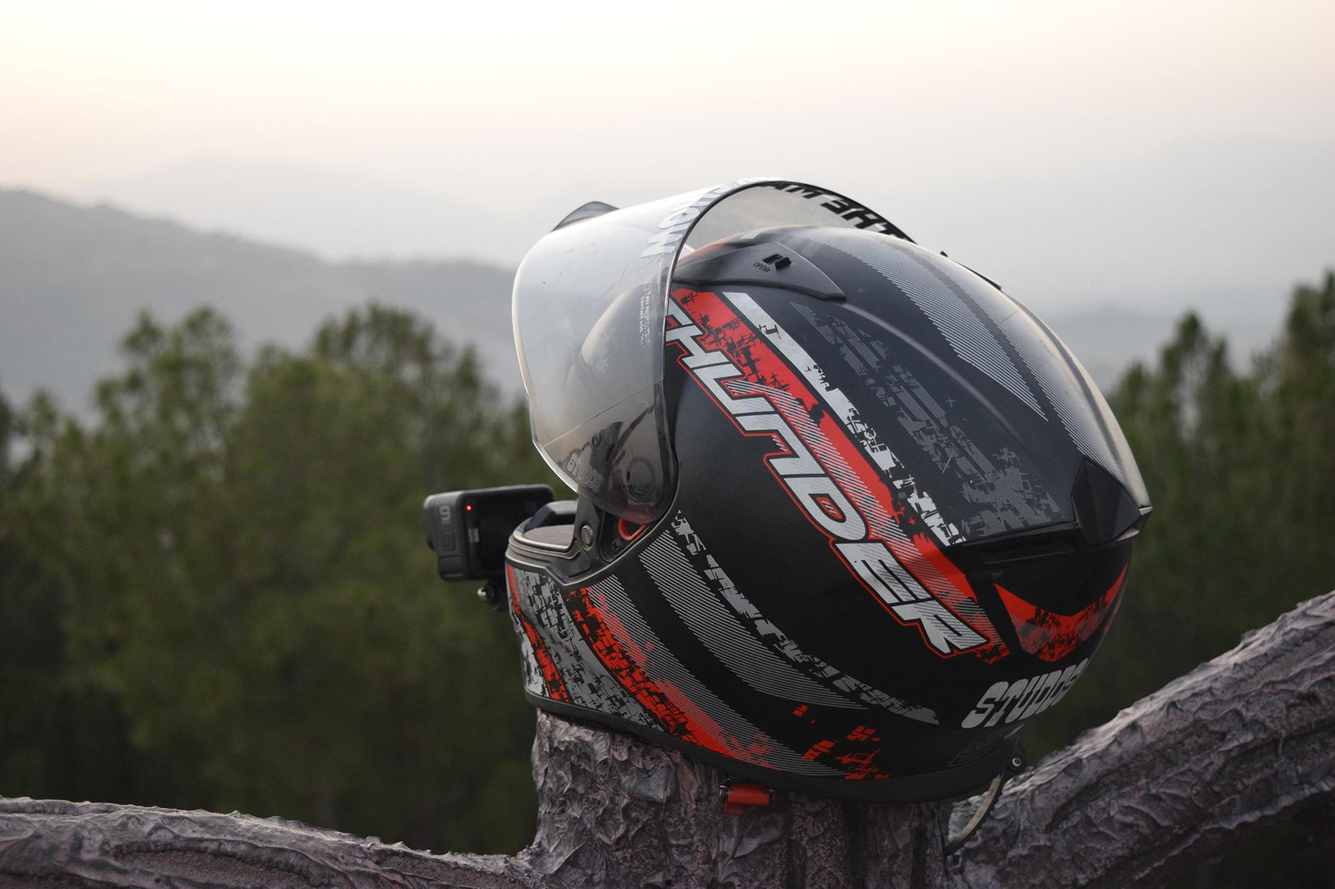helmet: (503, 173, 1156, 820)
